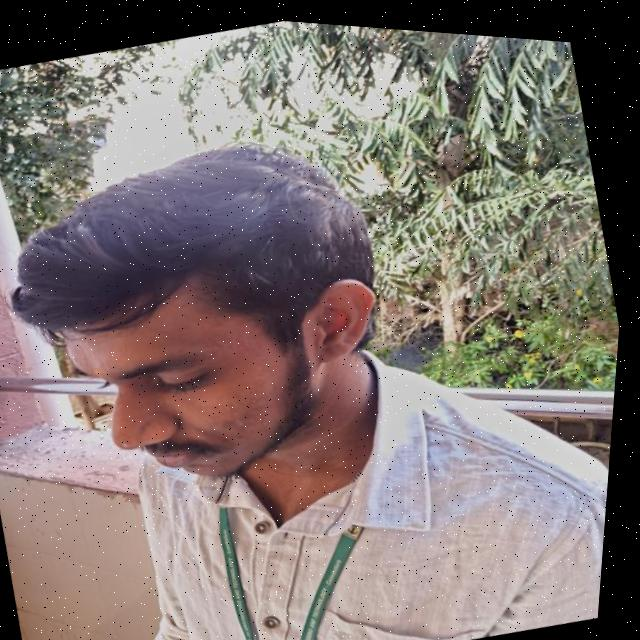id_card: (192, 451, 406, 640)
